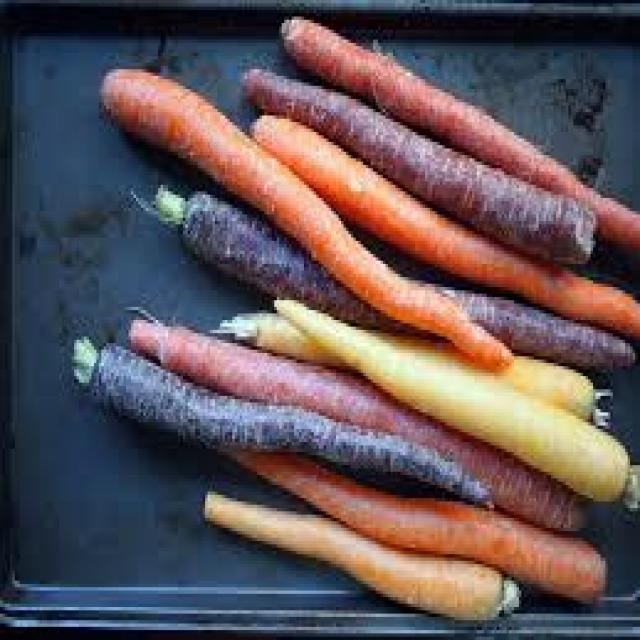organic waste: (96, 66, 506, 363), (119, 307, 583, 524), (151, 185, 635, 373), (247, 106, 638, 333), (279, 14, 638, 248), (270, 294, 638, 508), (237, 66, 596, 264), (69, 330, 489, 498), (212, 445, 606, 597), (205, 310, 608, 422), (203, 488, 519, 617)
